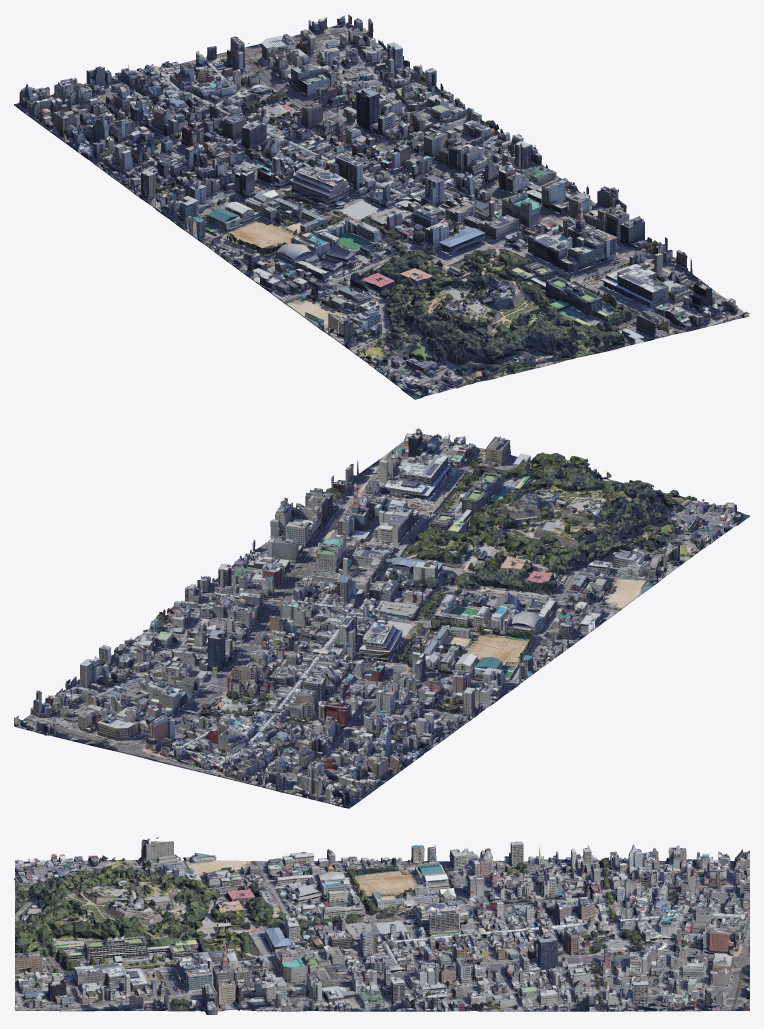
File: prototype_backgroundx10.fbx
3 renders of one model, top to bottom at view 1: azimuth 30°, elevation 25°; view 2: azimuth 150°, elevation 25°; view 3: azimuth 270°, elevation 25°, orthographic. The views are drawn at different scales.
Parts seen in each view (by area): view 1: BuildingMesh-00034, BuildingMesh-00032, BuildingMesh-00037, BuildingMesh-00020, BuildingMesh-00045, BuildingMesh-00022, BuildingMesh-00003, BuildingMesh-00021, BuildingMesh-00000, BuildingMesh-00013, BuildingMesh-00041, BuildingMesh-00017 (+28 smaller); view 2: BuildingMesh-00039, BuildingMesh-00013, BuildingMesh-00011, BuildingMesh-00022, BuildingMesh-00014, BuildingMesh-00035, BuildingMesh-00018, BuildingMesh-00012, BuildingMesh-00037, BuildingMesh-00044, BuildingMesh-00042, BuildingMesh-00029 (+28 smaller); view 3: BuildingMesh-00045, BuildingMesh-00046, BuildingMesh-00024, BuildingMesh-00027, BuildingMesh-00040, BuildingMesh-00007, BuildingMesh-00026, BuildingMesh-00012, BuildingMesh-00029, BuildingMesh-00008, BuildingMesh-00041, BuildingMesh-00042 (+28 smaller).
Part boxes in pixels (left/top/right/bottom): BuildingMesh-00034: left=463, top=312, right=582, bottom=377; BuildingMesh-00032: left=375, top=328, right=498, bottom=399; BuildingMesh-00037: left=334, top=297, right=456, bottom=368; BuildingMesh-00020: left=262, top=155, right=381, bottom=230; BuildingMesh-00045: left=547, top=207, right=667, bottom=277; BuildingMesh-00022: left=134, top=158, right=253, bottom=222; BuildingMesh-00003: left=54, top=99, right=177, bottom=163; BuildingMesh-00021: left=174, top=192, right=297, bottom=251; BuildingMesh-00000: left=178, top=109, right=300, bottom=169; BuildingMesh-00013: left=14, top=66, right=134, bottom=134; BuildingMesh-00041: left=628, top=279, right=749, bottom=336; BuildingMesh-00017: left=254, top=247, right=377, bottom=310; BuildingMesh-00039: left=546, top=529, right=669, bottom=602; BuildingMesh-00013: left=265, top=745, right=389, bottom=808; BuildingMesh-00011: left=98, top=702, right=221, bottom=767; BuildingMesh-00022: left=388, top=652, right=509, bottom=720; BuildingMesh-00014: left=182, top=721, right=299, bottom=788; BuildingMesh-00035: left=463, top=513, right=585, bottom=576; BuildingMesh-00018: left=466, top=598, right=589, bottom=661; BuildingMesh-00012: left=14, top=690, right=137, bottom=747; BuildingMesh-00037: left=587, top=502, right=710, bottom=572; BuildingMesh-00044: left=379, top=507, right=500, bottom=561; BuildingMesh-00042: left=337, top=457, right=458, bottom=511; BuildingMesh-00029: left=215, top=536, right=338, bottom=598; BuildingMesh-00045: left=162, top=955, right=235, bottom=1014; BuildingMesh-00046: left=88, top=915, right=161, bottom=973; BuildingMesh-00024: left=456, top=955, right=529, bottom=1011; BuildingMesh-00027: left=235, top=953, right=308, bottom=1011; BuildingMesh-00040: left=15, top=919, right=88, bottom=973; BuildingMesh-00007: left=602, top=956, right=676, bottom=1011; BuildingMesh-00026: left=381, top=957, right=455, bottom=1011; BuildingMesh-00012: left=676, top=959, right=749, bottom=1011; BuildingMesh-00029: left=309, top=957, right=382, bottom=1011; BuildingMesh-00008: left=529, top=948, right=602, bottom=1011; BuildingMesh-00041: left=14, top=958, right=88, bottom=1011; BuildingMesh-00042: left=88, top=963, right=161, bottom=1011.
Bounding box in the file's own units: 3897 × 656 × 8055.
